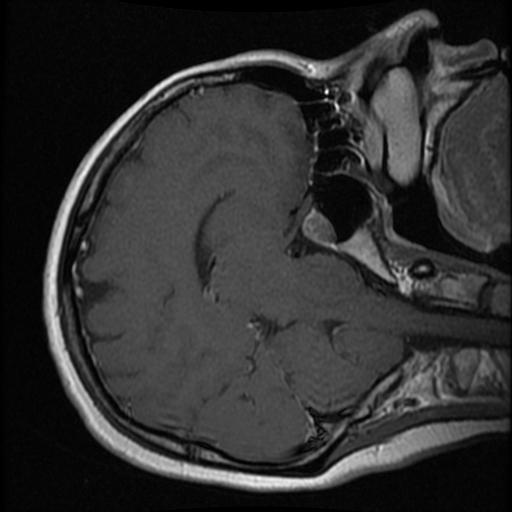pituitary tumour: (300, 211, 335, 247)
